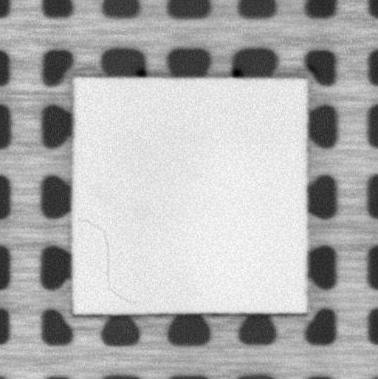DIE_CRACK: (77, 217, 130, 305)
